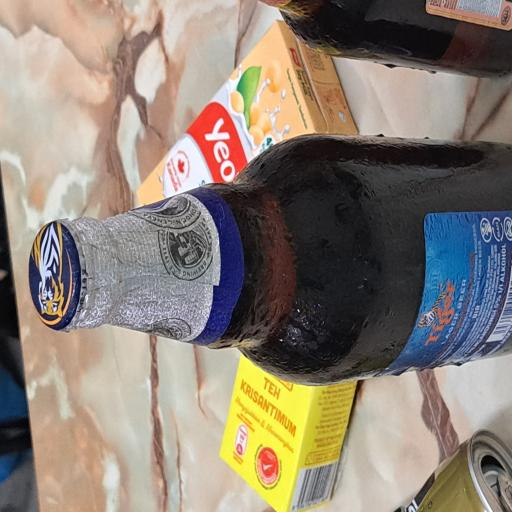drink carton: (226, 179, 371, 477), (0, 291, 123, 476)
glass bottle: (93, 38, 283, 512), (326, 343, 384, 512)
